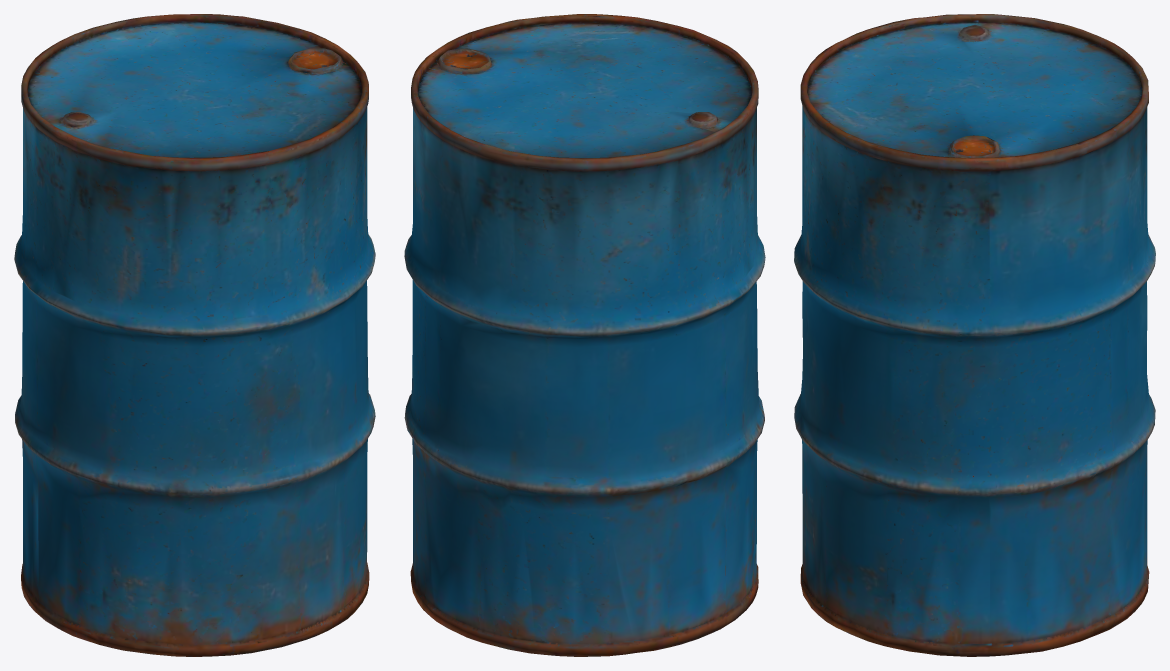
File: oil_barrel.glb
The picture shows the model from 3 angles, left to right: view 1: azimuth 30°, elevation 25°; view 2: azimuth 150°, elevation 25°; view 3: azimuth 270°, elevation 25°; orthographic projection.
Visible parts, largest first — view 1: oil_barrel; view 2: oil_barrel; view 3: oil_barrel.
Part boxes in pixels (x1,y1,x2,y2): oil_barrel: (14,14,375,656); oil_barrel: (404,14,765,656); oil_barrel: (794,14,1155,656).
Bounding box in the file's own units: 0.6583 × 1 × 0.6587.
Materials: 1 (1 with a texture image).
